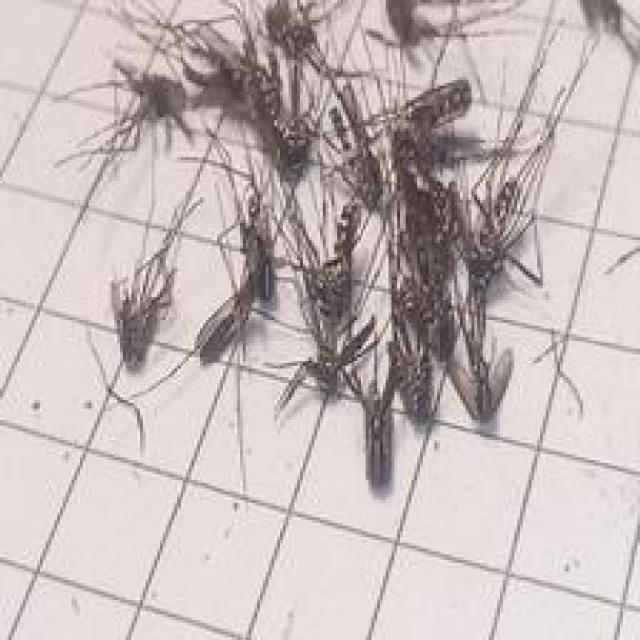Aedes albopictus: (48, 0, 640, 491)
